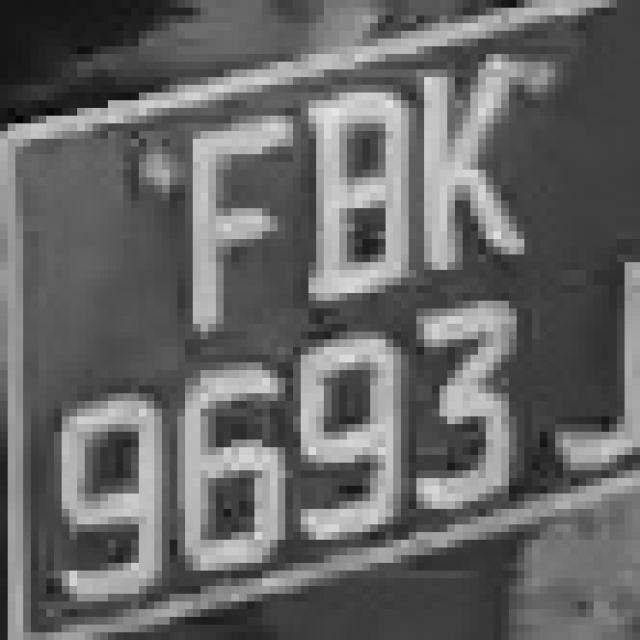3: (408, 278, 548, 540)
6: (170, 332, 285, 578)
9: (39, 355, 178, 617), (277, 316, 408, 555)
B: (278, 61, 424, 332)
F: (154, 85, 308, 347)
K: (393, 31, 517, 285)
